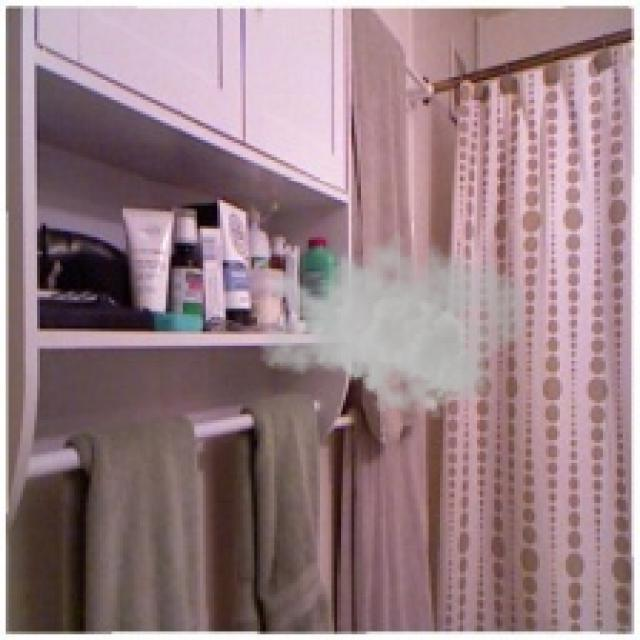Smoke: (257, 220, 529, 420)
